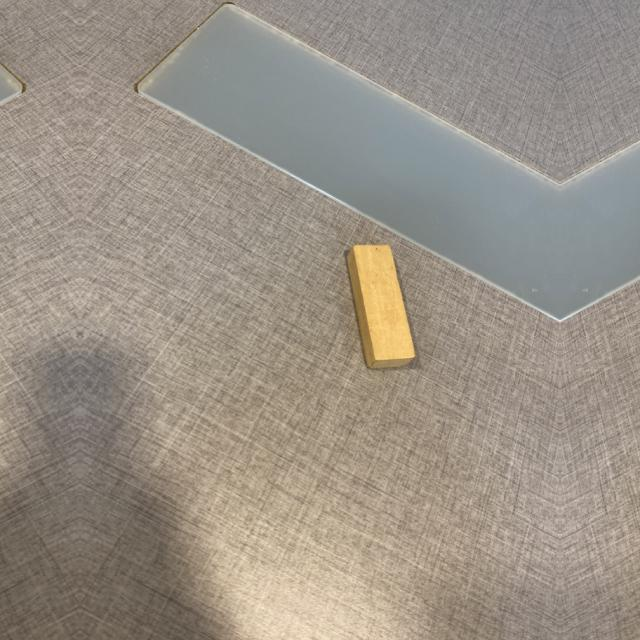jenga: (344, 244, 416, 372)
